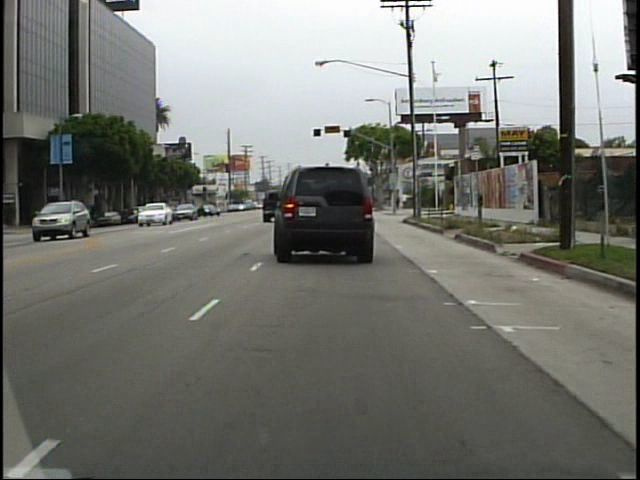person: (401, 189, 409, 212), (393, 192, 401, 212)
